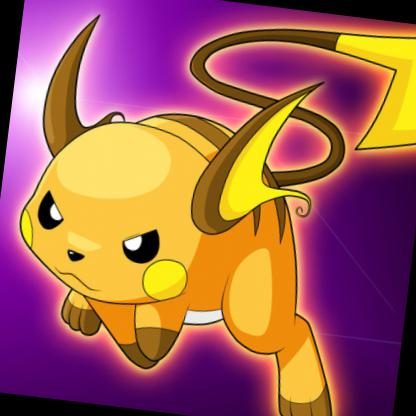Raichu: (1, 40, 416, 416)
